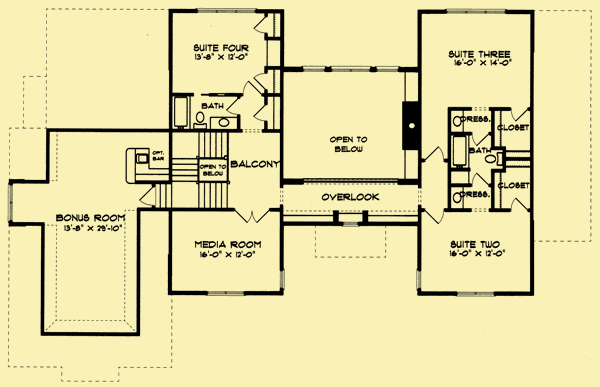door: (233, 209, 270, 225), (137, 185, 157, 207), (423, 144, 445, 164), (240, 78, 263, 96), (470, 171, 491, 189), (469, 130, 490, 148), (509, 104, 530, 122), (507, 195, 528, 213), (424, 208, 445, 225), (249, 17, 270, 33), (253, 105, 269, 124), (226, 96, 241, 116)
large_sink: (483, 149, 503, 169), (191, 109, 208, 129)
stairs: (171, 129, 230, 207)
tub: (448, 135, 471, 170), (171, 96, 190, 127)
window: (445, 6, 508, 17), (193, 6, 258, 14), (204, 287, 244, 298), (456, 289, 495, 299), (276, 268, 288, 291), (300, 64, 327, 74), (329, 66, 371, 72), (374, 65, 399, 72)
